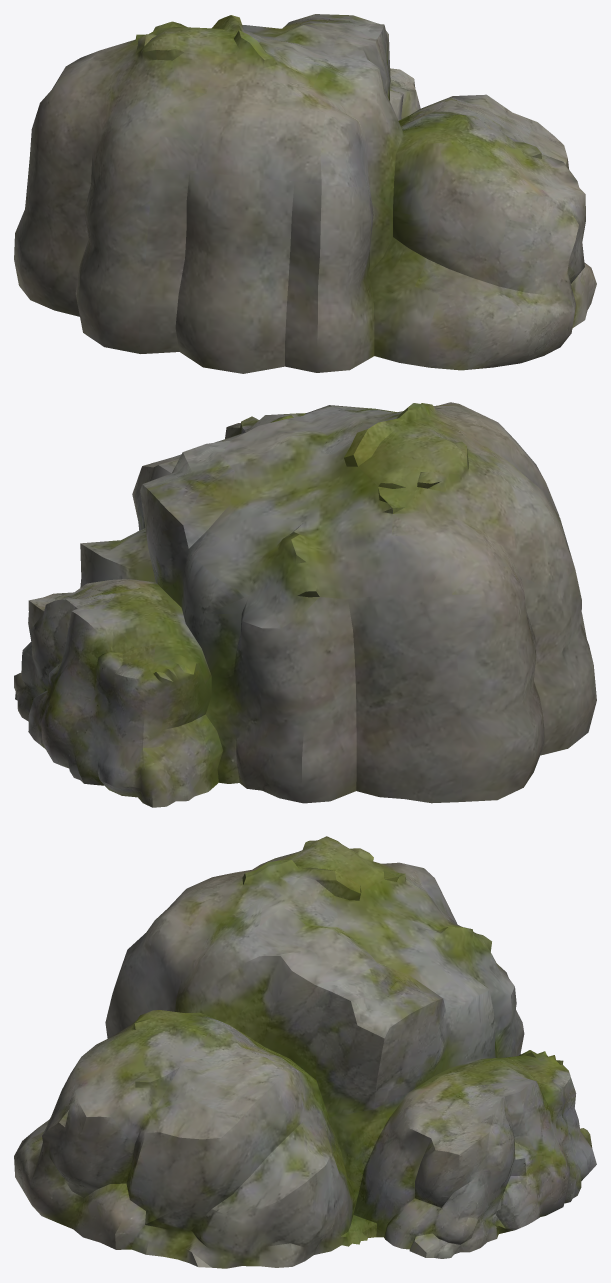
File: boulders.glb
3 views of the same model, one above another, from view 1: azimuth 30°, elevation 25°; view 2: azimuth 150°, elevation 25°; view 3: azimuth 270°, elevation 25° (orthographic). The views are drawn at different scales.
Parts seen in each view (by area): view 1: tripo_node_d95ca12d-722c-4d4f-b989-83e5512d4ccb; view 2: tripo_node_d95ca12d-722c-4d4f-b989-83e5512d4ccb; view 3: tripo_node_d95ca12d-722c-4d4f-b989-83e5512d4ccb.
Part boxes in pixels (box(x1,y1,x2,y2)): tripo_node_d95ca12d-722c-4d4f-b989-83e5512d4ccb: box(14, 14, 596, 373); tripo_node_d95ca12d-722c-4d4f-b989-83e5512d4ccb: box(14, 402, 596, 807); tripo_node_d95ca12d-722c-4d4f-b989-83e5512d4ccb: box(14, 836, 596, 1268).
Bounding box in the file's own units: 0.9043 × 0.5076 × 1.
1 material, 1 textured.
